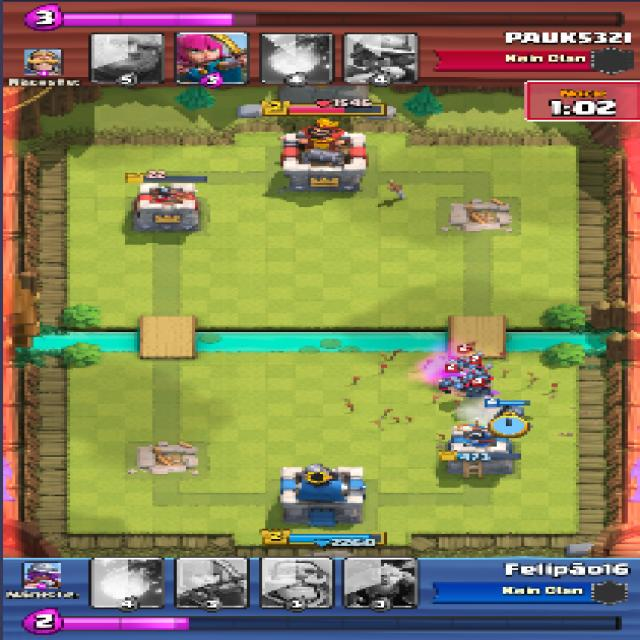Enemy-Arrow: (338, 347, 562, 436)
Enemy-MiniPEKKA: (465, 379, 493, 396)
Enemy-Minion: (435, 376, 468, 393), (453, 355, 480, 368), (466, 367, 492, 379)
Player-MiniPEKKA: (492, 404, 530, 425)
